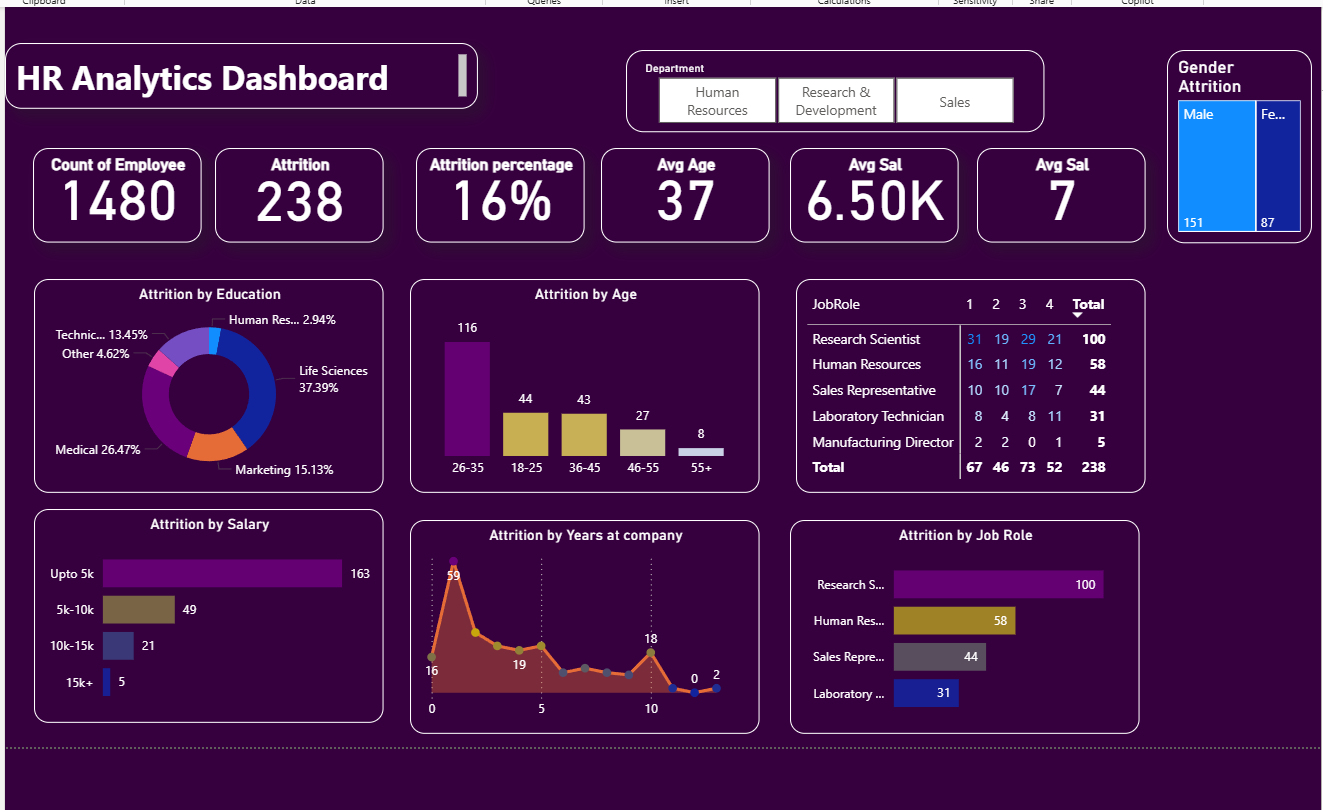

The page's visual inventory and layout, read from the dashboard file:
{"tool":"powerbi","page":{"name":"Page 1","canvas":[1280,720],"ordinal":0},"visuals":[{"type":"card","title":"Count of  Employee","fields":{"Values":["CountNonNull(HR_Data.EmpID)"]},"box":[27.2,137.1,164.4,92.4],"z":0},{"type":"card","title":"Attrition","fields":{"Values":["Sum(HR_Data.AttritionRate)"]},"box":[204.3,137.1,164.4,92.4],"z":1000},{"type":"card","title":"Attrition percentage","fields":{"Values":["HR_Data.Attrpercentage"]},"box":[399.8,137.1,164.4,92.4],"z":2000},{"type":"card","title":"Avg Age","fields":{"Values":["Avg(HR_Data.Age)"]},"box":[579.7,137.1,164.4,92.4],"z":3000},{"type":"card","title":"Avg Sal","fields":{"Values":["Avg(HR_Data.MonthlyIncome)"]},"box":[763.5,137.1,164.4,92.4],"z":4000},{"type":"textbox","box":[0,35,460.1,64.2],"z":5000},{"type":"card","title":"Avg Sal","fields":{"Values":["Avg(HR_Data.YearsAtCompany)"]},"box":[945.4,137.1,164.4,92.4],"z":6000},{"type":"slicer","fields":{"Values":["Departments.Department"]},"box":[604,41.8,406.6,79.8],"z":7000},{"type":"treemap","title":" Gender Attrition","fields":{"Group":["HR_Data.Gender"],"Values":["Sum(HR_Data.AttritionRate)"]},"box":[1130.2,41.8,141,187.7],"z":8000},{"type":"donutChart","title":"Attrition by Education","fields":{"Y":["Sum(HR_Data.AttritionRate)"],"Series":["Education.Education"]},"box":[28.2,264.6,340.4,208.1],"z":9000},{"type":"columnChart","title":"Attrition by Age","fields":{"Y":["Sum(HR_Data.AttritionRate)"],"Category":["HR_Data.AgeGroup"]},"box":[393.9,264.6,340.4,208.1],"z":10000},{"type":"barChart","title":"Attrition by Salary","fields":{"Category":["HR_Data.SalarySlab"],"Y":["Sum(HR_Data.AttritionRate)"]},"box":[28.2,488.3,340.4,208.1],"z":11000},{"type":"lineChart","title":"Attrition by Years at company","fields":{"Y":["Sum(HR_Data.AttritionRate)"],"Category":["HR_Data.YearsAtCompany"]},"box":[393.9,499,340.4,208.1],"z":12000},{"type":"barChart","title":"Attrition by Job Role","fields":{"Y":["Sum(HR_Data.AttritionRate)"],"Category":["Jobs.JobRole"]},"box":[763.5,499,340.4,208.1],"z":13000},{"type":"pivotTable","title":"Attrition by Salary","fields":{"Rows":["Jobs.JobRole"],"Columns":["HR_Data.JobSatisfaction"],"Values":["Sum(HR_Data.AttritionRate)"]},"box":[769.4,264.6,340.4,208.1],"z":14000}]}

Visuals, with their boxes on the page's 1280x720 design canvas (x1, y1, x2, y2). These are canvas units, not pixel positions in the 1323x810 screenshot, which may show the page scaled, cropped or inside an application window:
"Count of  Employee" card: [27, 137, 192, 230]
"Attrition" card: [204, 137, 369, 230]
"Attrition percentage" card: [400, 137, 564, 230]
"Avg Age" card: [580, 137, 744, 230]
"Avg Sal" card: [764, 137, 928, 230]
textbox: [0, 35, 460, 99]
"Avg Sal" card: [945, 137, 1110, 230]
slicer - Departments.Department: [604, 42, 1011, 122]
" Gender Attrition" treemap: [1130, 42, 1271, 230]
"Attrition by Education" donutChart: [28, 265, 369, 473]
"Attrition by Age" columnChart: [394, 265, 734, 473]
"Attrition by Salary" barChart: [28, 488, 369, 696]
"Attrition by Years at company" lineChart: [394, 499, 734, 707]
"Attrition by Job Role" barChart: [764, 499, 1104, 707]
"Attrition by Salary" pivotTable: [769, 265, 1110, 473]
